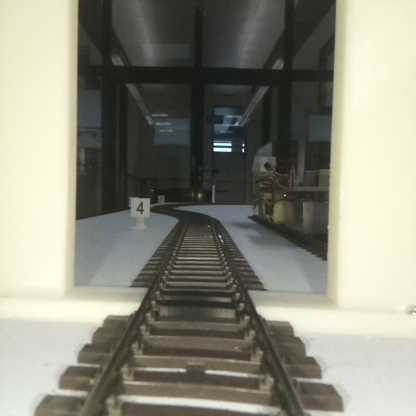white-stop-4: (130, 197, 149, 229)
